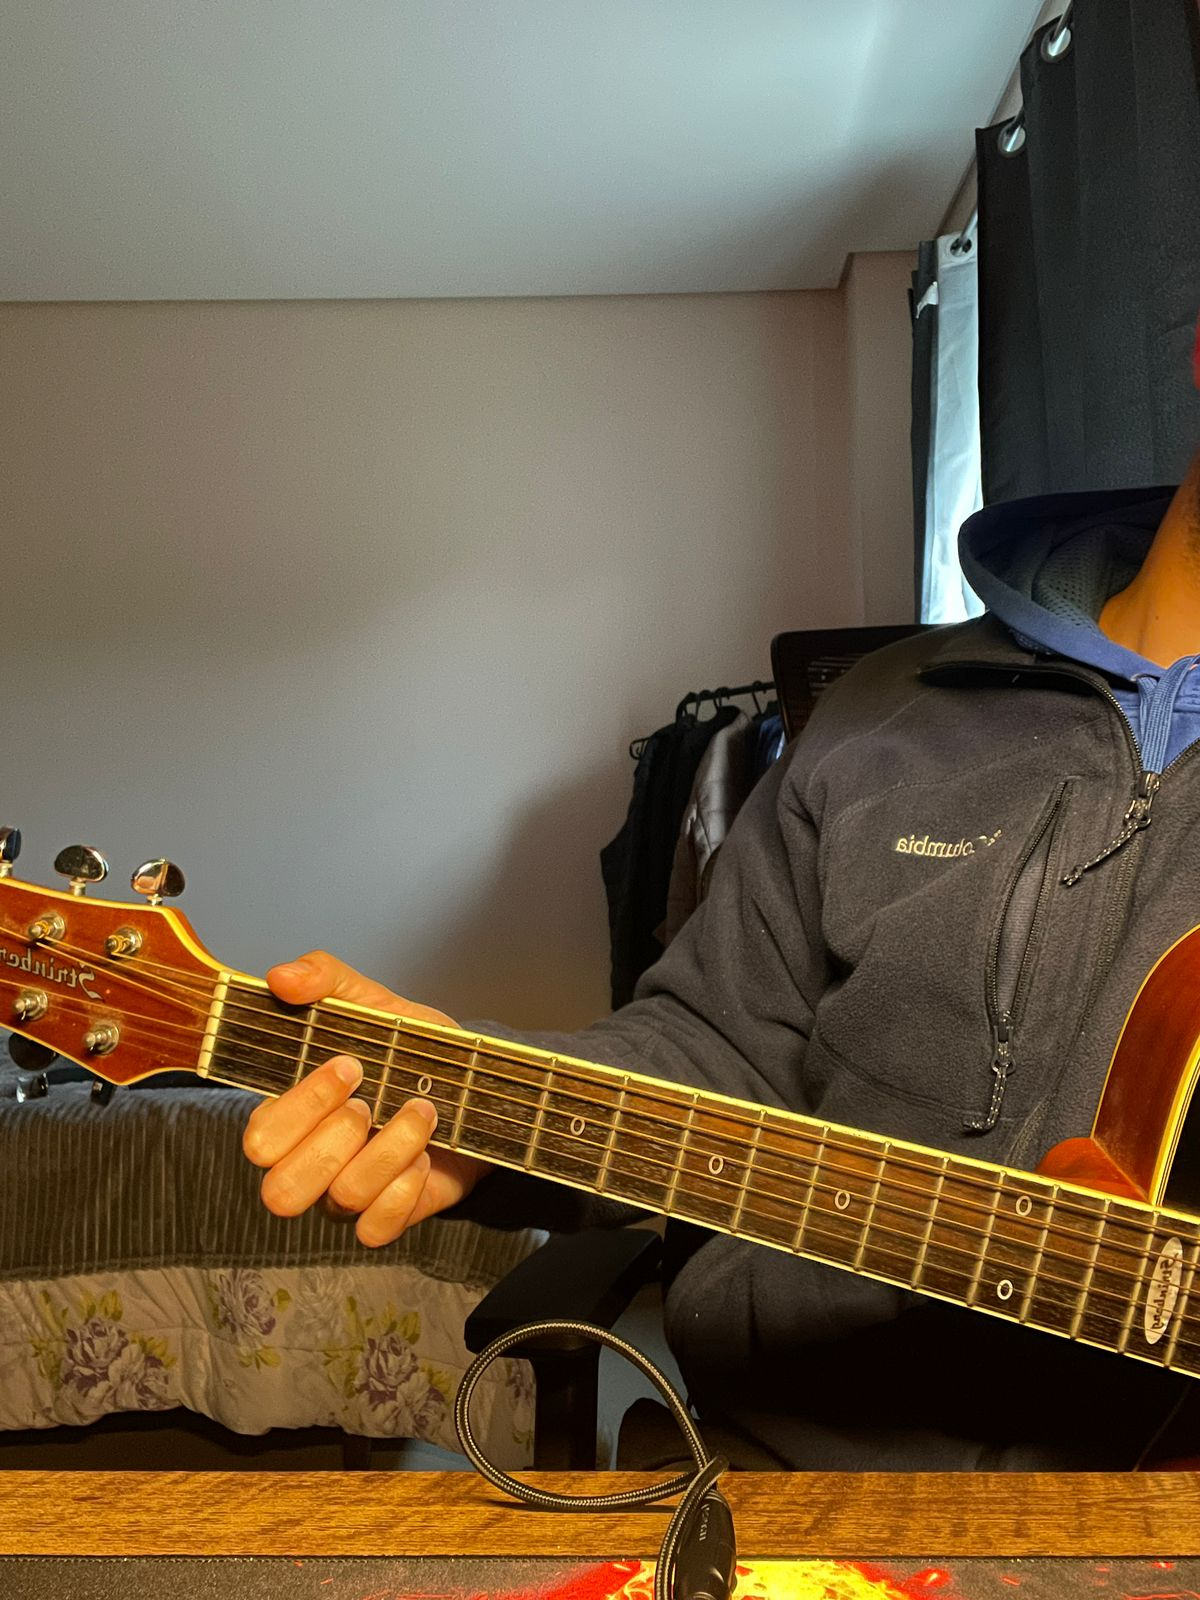re: (301, 1005, 465, 1170)
violao: (11, 808, 1200, 1382)
